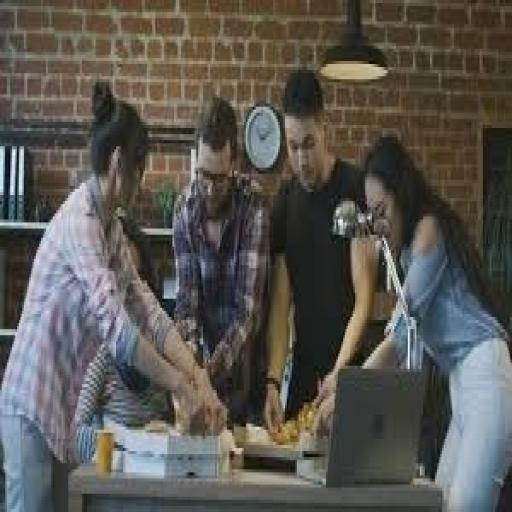eating: (0, 76, 229, 509), (312, 131, 510, 509), (260, 64, 380, 439), (169, 92, 273, 426)
